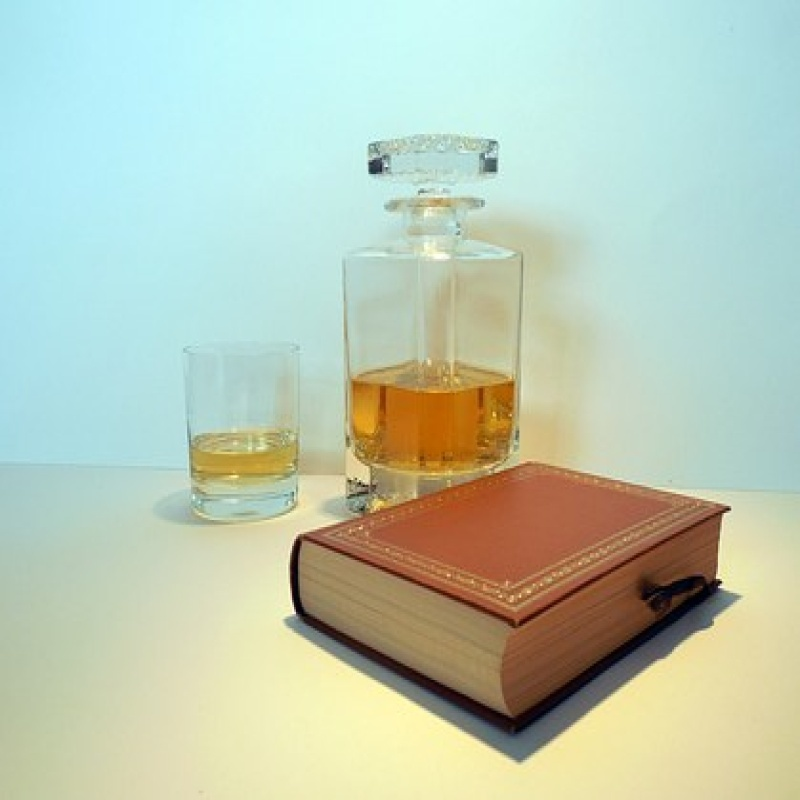whiskey: (186, 343, 314, 521)
